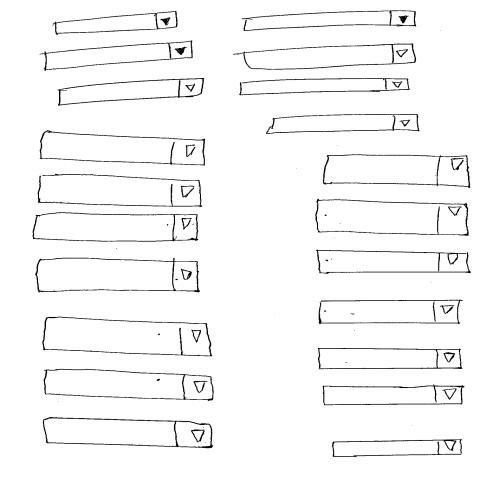Select: (42, 368, 214, 400), (42, 416, 213, 448), (242, 43, 416, 70), (43, 40, 192, 71), (57, 77, 204, 106), (315, 250, 471, 274), (318, 298, 462, 324), (242, 10, 417, 31), (317, 347, 462, 370), (265, 113, 419, 134), (54, 10, 178, 35), (238, 78, 410, 96), (322, 385, 465, 405), (331, 438, 462, 458)
